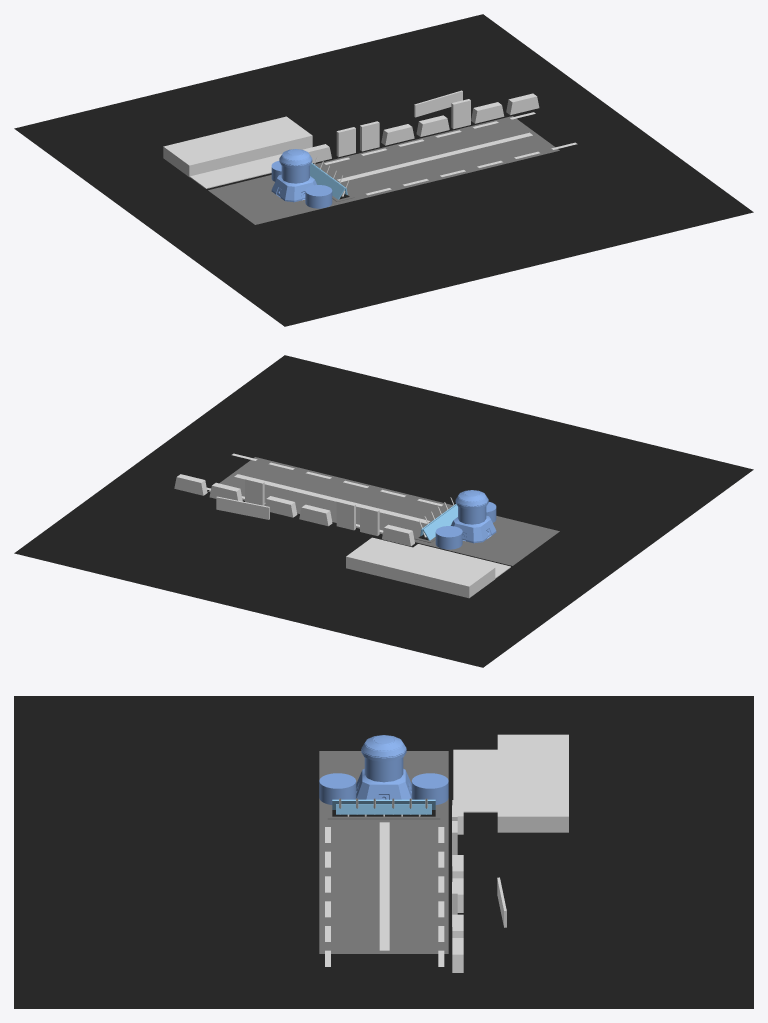
Rendered from Dummy_Field (2).fbx.
3 views of the same model, one above another, from view 1: azimuth 30°, elevation 25°; view 2: azimuth 150°, elevation 25°; view 3: azimuth 270°, elevation 25° (orthographic). The views are drawn at different scales.
Visible parts, largest first — view 1: BackGround, Field_Plane, Box014, Object002, Box013, Plane001, Bg_Nexus_a, Box008, Box005, Box004, Box010; view 2: BackGround, Field_Plane, Box014, Object002, Bg_Nexus_a, Box008, Plane001, Box013, Box004, Box005; view 3: BackGround, Field_Plane, Box014, Object002, Box013, Bg_Nexus_a, Plane001, Object001, Bg_Barricade001.
Part boxes in pixels (left/top/right/bottom): BackGround: left=14, top=14, right=753, bottom=326; Field_Plane: left=208, top=116, right=559, bottom=224; Box014: left=163, top=116, right=312, bottom=176; Object002: left=271, top=149, right=316, bottom=202; Box013: left=189, top=154, right=281, bottom=188; Plane001: left=337, top=132, right=532, bottom=182; Bg_Nexus_a: left=271, top=161, right=332, bottom=208; Box008: left=414, top=90, right=462, bottom=117; Box005: left=360, top=121, right=379, bottom=151; Box004: left=336, top=127, right=355, bottom=157; Box010: left=451, top=99, right=470, bottom=128; BackGround: left=14, top=355, right=753, bottom=667; Field_Plane: left=208, top=457, right=559, bottom=565; Box014: left=346, top=537, right=495, bottom=598; Object002: left=451, top=490, right=496, bottom=543; Bg_Nexus_a: left=435, top=502, right=496, bottom=549; Box008: left=216, top=496, right=269, bottom=519; Plane001: left=234, top=474, right=430, bottom=523; Box013: left=413, top=544, right=510, bottom=578; Box004: left=360, top=506, right=379, bottom=535; Box005: left=336, top=500, right=355, bottom=530; BackGround: left=14, top=696, right=753, bottom=1008; Field_Plane: left=319, top=751, right=448, bottom=953; Box014: left=497, top=734, right=568, bottom=832; Object002: left=356, top=735, right=411, bottom=799; Box013: left=453, top=749, right=497, bottom=812; Bg_Nexus_a: left=319, top=773, right=448, bottom=804; Plane001: left=379, top=822, right=389, bottom=950; Object001: left=319, top=805, right=448, bottom=821; Bg_Barricade001: left=336, top=804, right=431, bottom=814.
Bounding box in the file's own units: 4000 × 424 × 4000.
